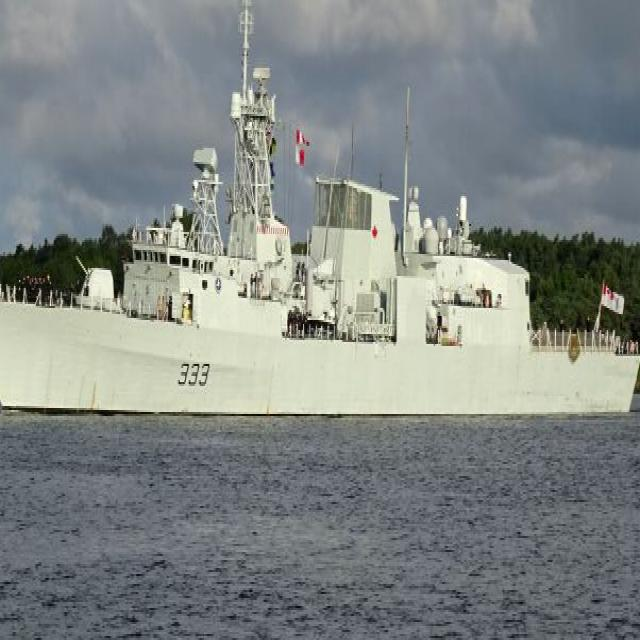Fragata: (1, 1, 640, 417)
